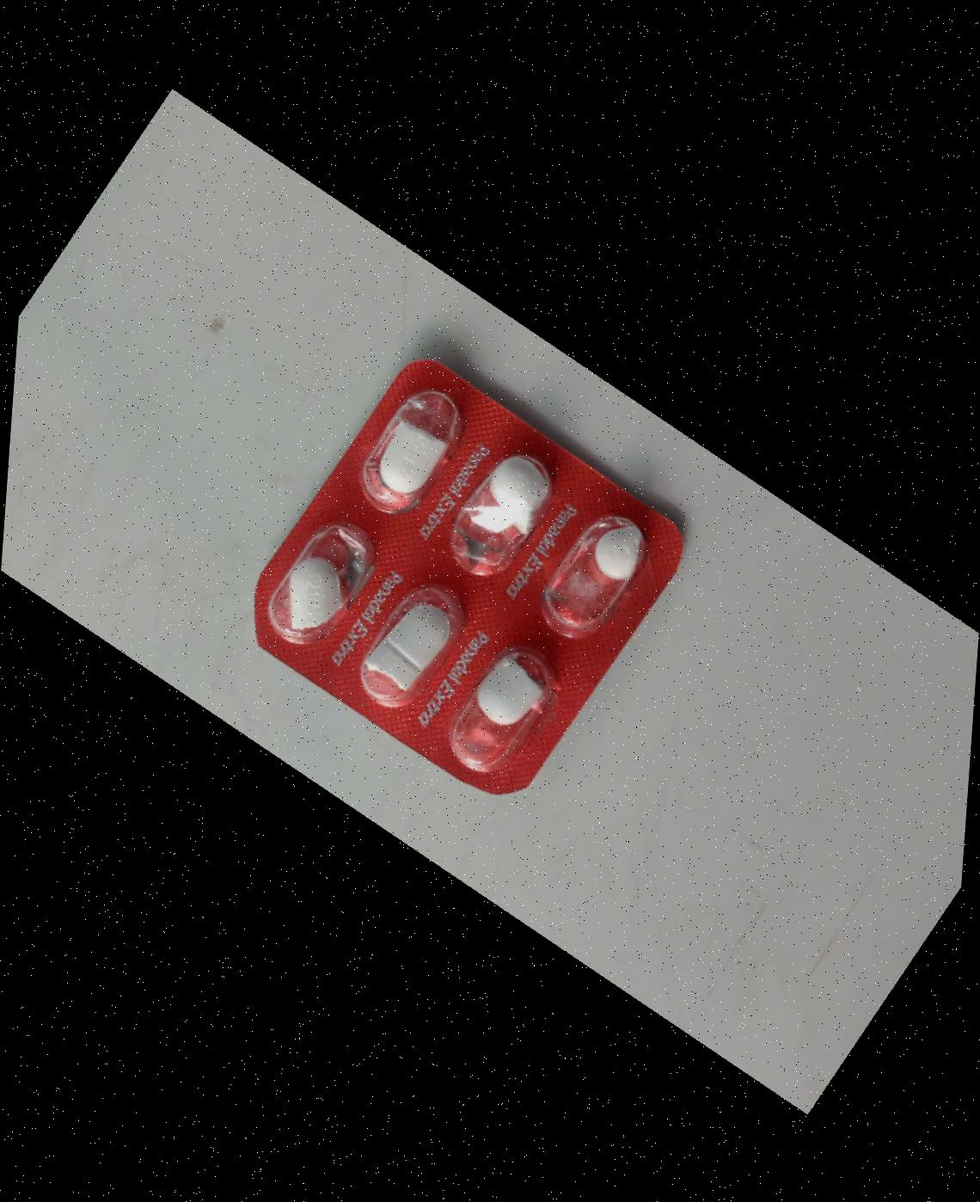Partial: (248, 497, 405, 671), (330, 565, 487, 739), (334, 364, 491, 538), (425, 623, 582, 796), (431, 428, 587, 602), (522, 484, 678, 657)
